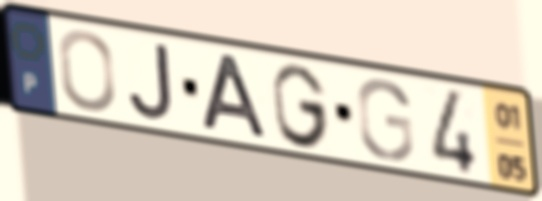4: (428, 87, 480, 178)
A: (199, 50, 271, 143)
G: (269, 61, 333, 152), (354, 77, 417, 164)
J: (126, 41, 177, 124)
O: (55, 28, 119, 114)
